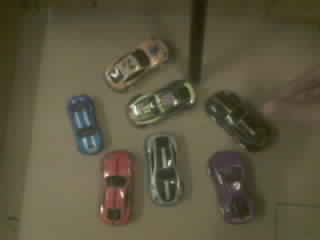Car: (205, 90, 270, 151), (208, 151, 254, 223), (105, 40, 167, 90), (128, 80, 195, 126), (144, 133, 182, 205), (100, 151, 132, 224), (68, 95, 101, 153)
